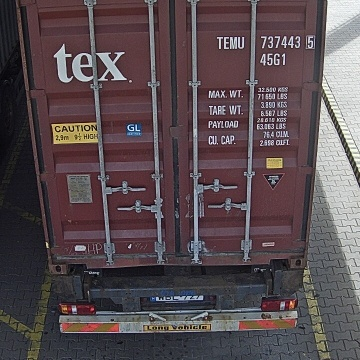serial_id: (216, 35, 314, 48)
